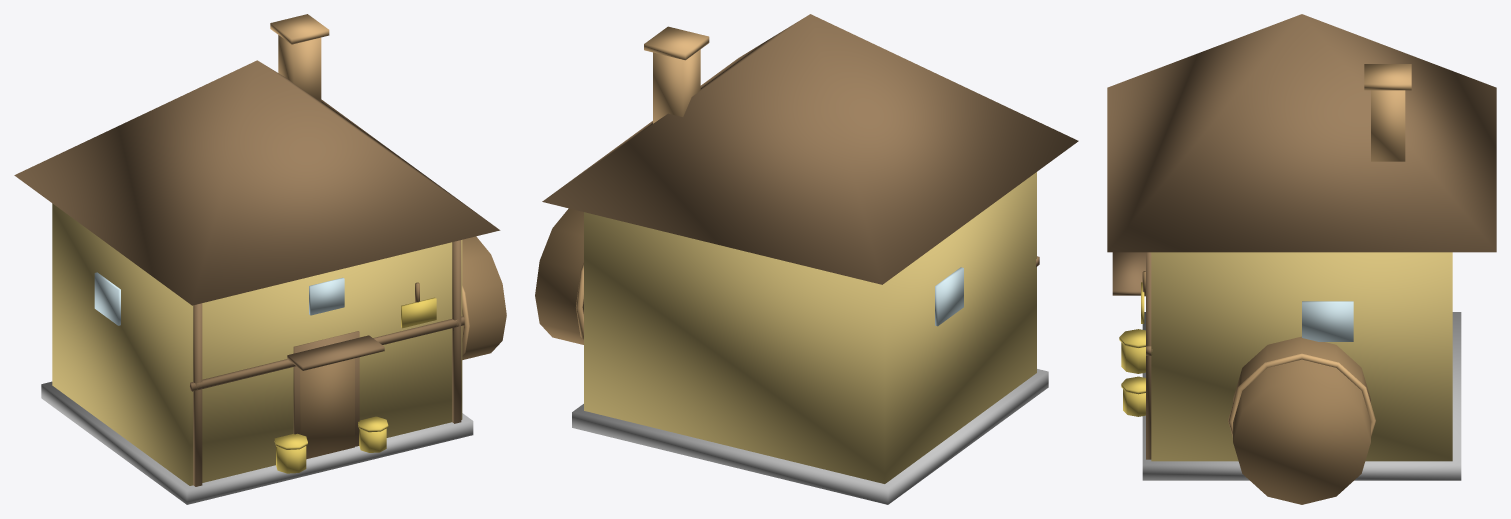
Rendered from meadery.glb.
3 views of the same model, side by side, from view 1: azimuth 30°, elevation 25°; view 2: azimuth 150°, elevation 25°; view 3: azimuth 270°, elevation 25° (orthographic). The views are drawn at different scales.
Parts seen in each view (by area): view 1: Roof, MainBuilding, Foundation, Door, LargeBarrel, Chimney, BeamH, BeamV_1.9, BeamV_-1.9, Awning, DoorFrame, ChimneyCap (+5 smaller); view 2: MainBuilding, Roof, Foundation, LargeBarrel, Chimney, ChimneyCap, Window2; view 3: Roof, MainBuilding, LargeBarrel, Foundation, Chimney, Window1, BarrelRing_0.4, Awning, ChimneyCap, BeamV_1.9, HoneyPot1, HoneyPot2.
Boxes of the visible parts, left/top/right/bottom form: Roof: left=14, top=60, right=500, bottom=305; MainBuilding: left=52, top=203, right=462, bottom=485; Foundation: left=41, top=381, right=473, bottom=504; Door: left=300, top=358, right=354, bottom=459; LargeBarrel: left=462, top=236, right=506, bottom=359; Chimney: left=278, top=35, right=321, bottom=101; BeamH: left=190, top=316, right=464, bottom=391; BeamV_1.9: left=452, top=240, right=461, bottom=423; BeamV_-1.9: left=193, top=303, right=202, bottom=486; Awning: left=287, top=335, right=384, bottom=370; DoorFrame: left=293, top=331, right=359, bottom=446; ChimneyCap: left=270, top=14, right=329, bottom=44; MainBuilding: left=584, top=172, right=1036, bottom=483; Roof: left=542, top=14, right=1078, bottom=284; Foundation: left=572, top=369, right=1048, bottom=504; LargeBarrel: left=535, top=208, right=583, bottom=344; Chimney: left=653, top=49, right=700, bottom=123; ChimneyCap: left=644, top=26, right=709, bottom=60; Window2: left=935, top=267, right=963, bottom=326; Roof: left=1107, top=14, right=1496, bottom=252; MainBuilding: left=1151, top=252, right=1452, bottom=461; LargeBarrel: left=1233, top=336, right=1370, bottom=504; Foundation: left=1142, top=312, right=1461, bottom=480; Chimney: left=1371, top=90, right=1405, bottom=161; Window1: left=1302, top=301, right=1353, bottom=341; BarrelRing_0.4: left=1228, top=353, right=1375, bottom=436; Awning: left=1112, top=252, right=1145, bottom=295; ChimneyCap: left=1364, top=64, right=1411, bottom=90; BeamV_1.9: left=1146, top=252, right=1151, bottom=459; HoneyPot1: left=1121, top=342, right=1145, bottom=373; HoneyPot2: left=1123, top=389, right=1145, bottom=416.
Size of the model in its own units: 5.46 by 5 by 4.53.
